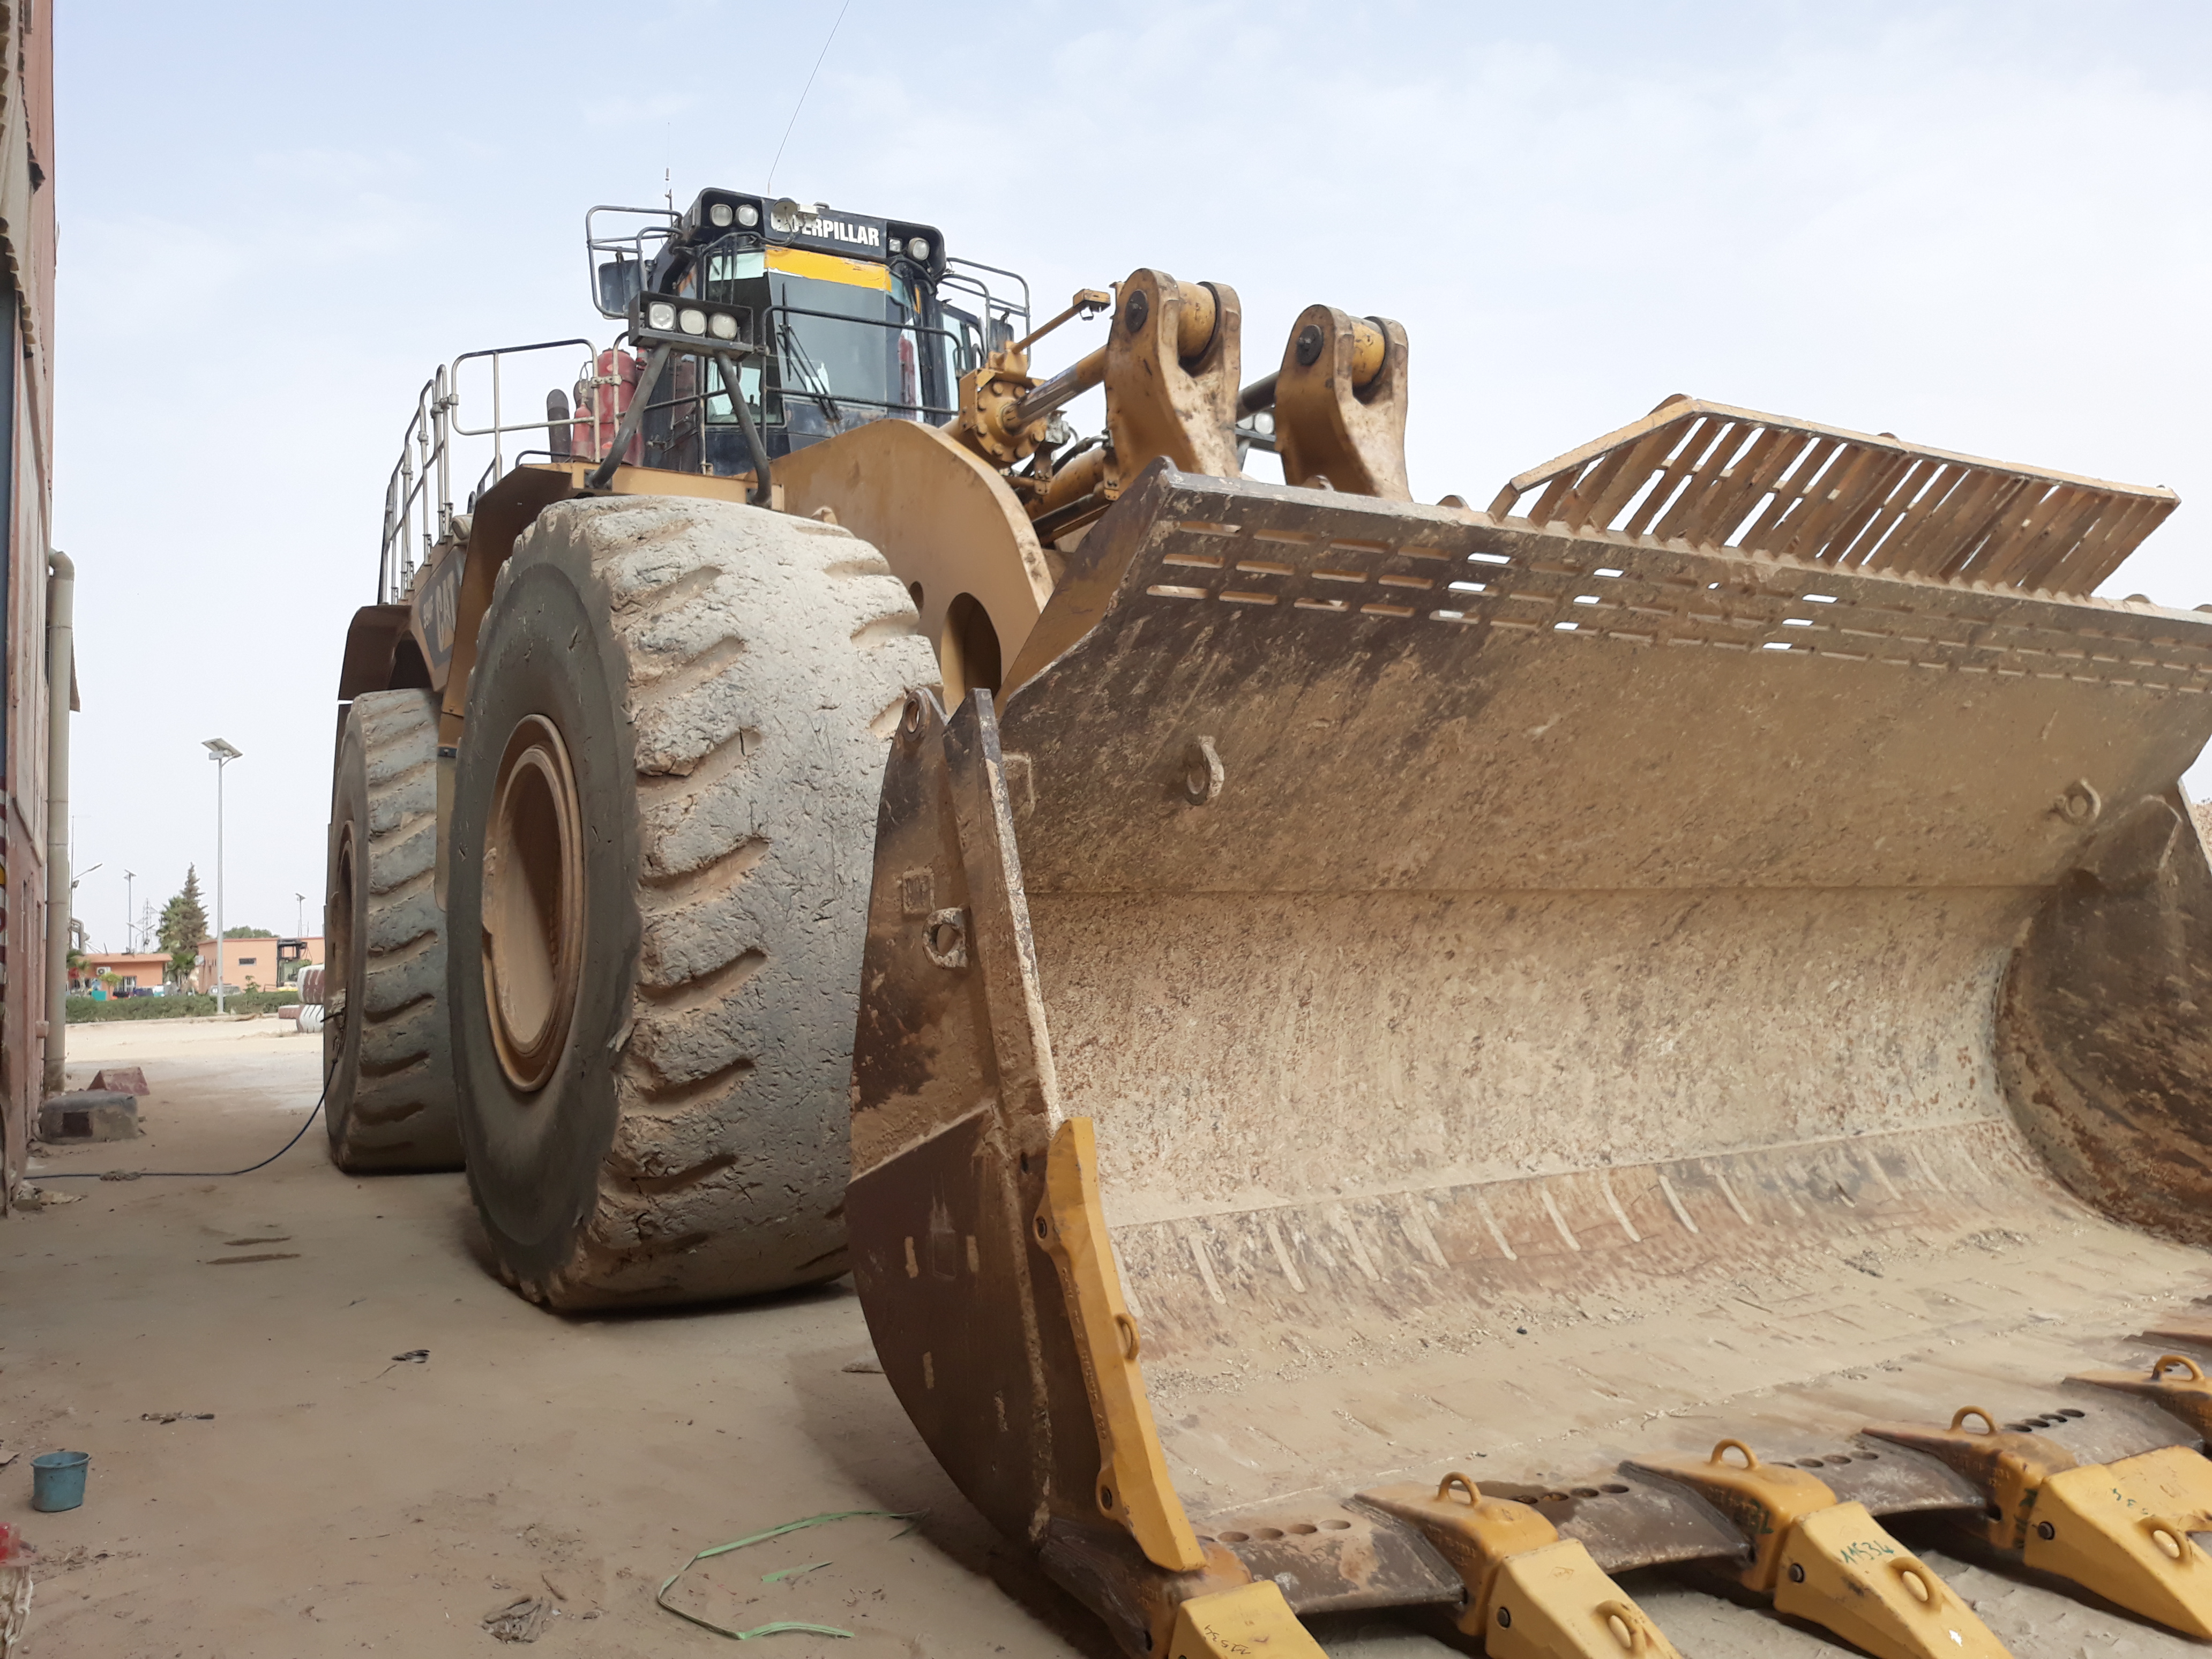chargeuse: (314, 174, 2196, 1659)
